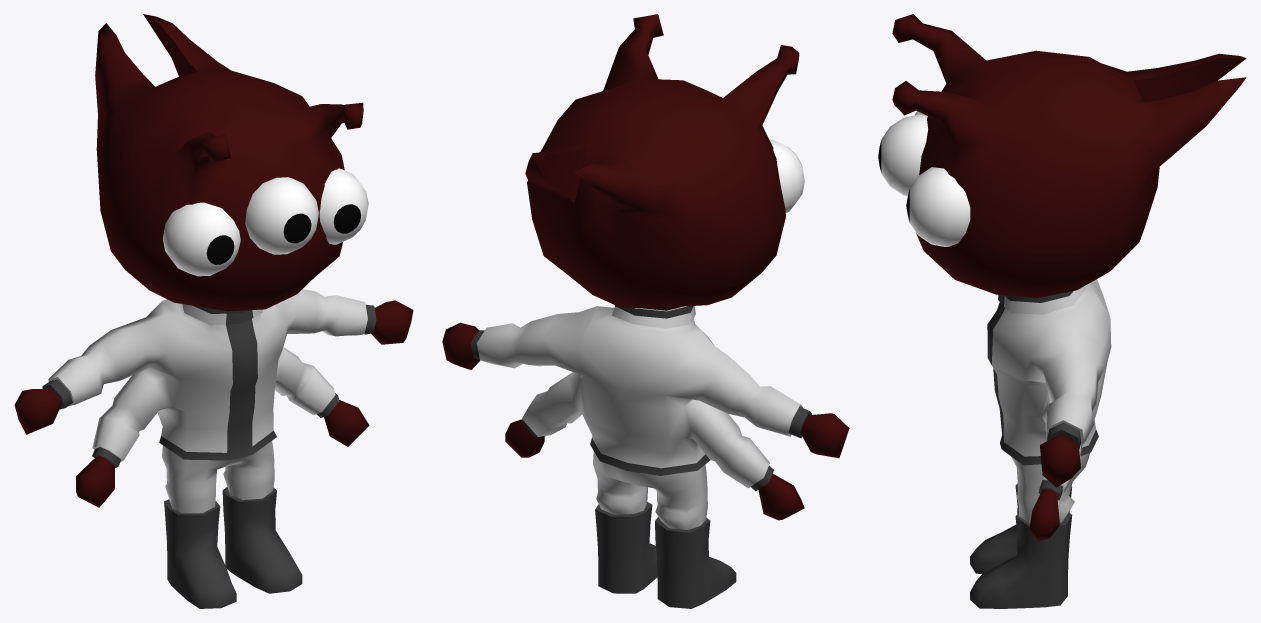
File: Prototype_Alien_Red.fbx
3 renders of one model, left to right at view 1: azimuth 30°, elevation 25°; view 2: azimuth 150°, elevation 25°; view 3: azimuth 270°, elevation 25°, orthographic. The views are drawn at different scales.
Parts seen in each view (by area): view 1: LP_Alien_R; view 2: LP_Alien_R; view 3: LP_Alien_R.
Part boxes in pixels (x1,y1,x2,y2): LP_Alien_R: [14, 14, 413, 608]; LP_Alien_R: [442, 14, 849, 608]; LP_Alien_R: [878, 14, 1246, 608].
Size of the model in its own units: 56.04 by 68.08 by 42.74.
